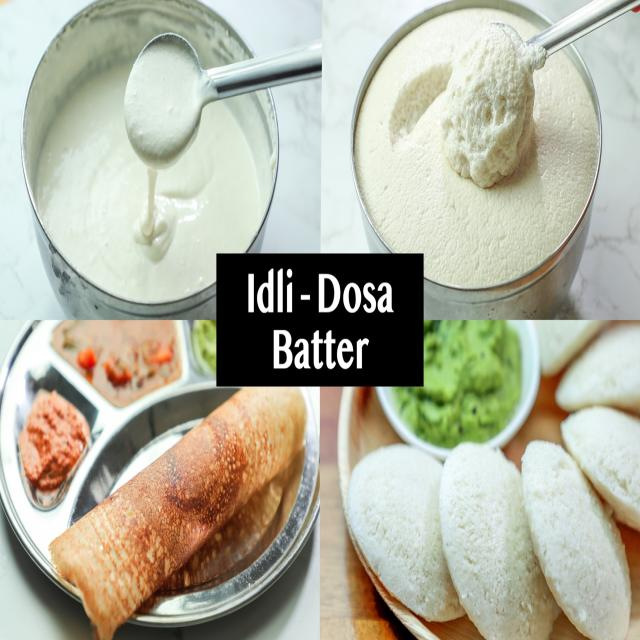dosa: (60, 371, 312, 616)
idli: (442, 434, 561, 639), (346, 436, 473, 628), (522, 432, 634, 640), (560, 402, 640, 518), (555, 326, 640, 415)
